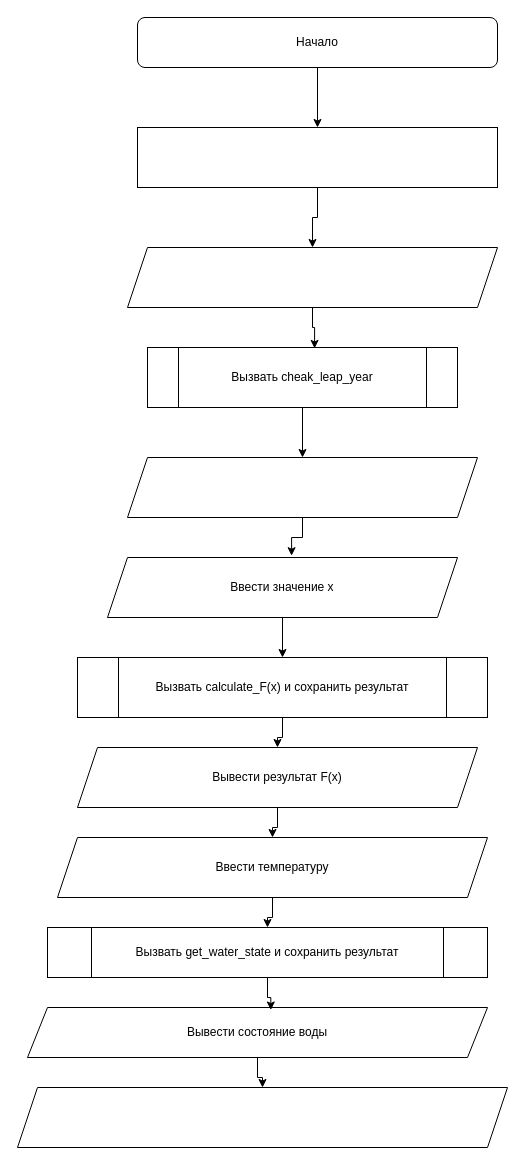
The diagram is 525 pixels wide and 1165 high, and some of its shapes have lost their labels. Here are the shapes that lost their labels. From the top down, the centre of each, then its label:
At pixel 317 157: "Установить локализацию".
At pixel 312 277: "Ввести год".
At pixel 302 487: "Вывести результат проверки года".
At pixel 262 1117: "Ввести координаты".
